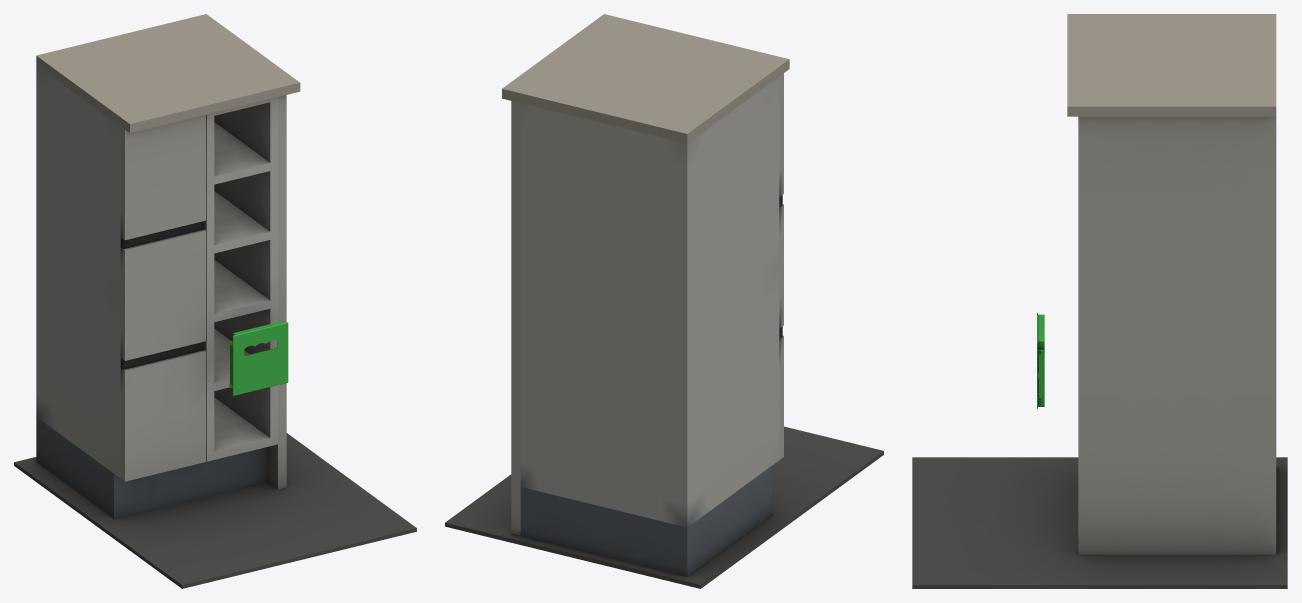
The model's file is cajones_tapa_lenguetas_entrando.glb.
The picture shows the model from 3 angles, left to right: view 1: azimuth 30°, elevation 25°; view 2: azimuth 150°, elevation 25°; view 3: azimuth 270°, elevation 25°; orthographic projection. The views are drawn at different scales.
Visible parts, largest first — view 1: cajones_tapa_lenguetas_entrando; view 2: cajones_tapa_lenguetas_entrando; view 3: cajones_tapa_lenguetas_entrando.
Part boxes in pixels (x1=…): cajones_tapa_lenguetas_entrando: x1=14, y1=14, x2=416, y2=588; cajones_tapa_lenguetas_entrando: x1=445, y1=14, x2=883, y2=588; cajones_tapa_lenguetas_entrando: x1=912, y1=14, x2=1287, y2=588.
Bounding box in the file's own units: 0.546 × 0.911 × 0.678.
